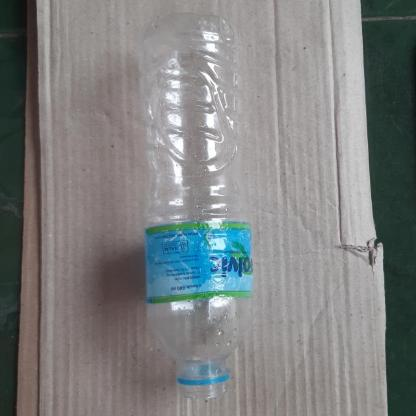Plastic Bottle: (137, 13, 251, 399)
